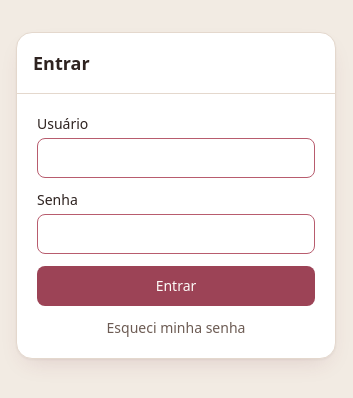
it: LoginPage › shows a translated error message when login rejects
The image size is (353, 398).
Type "ana" into the field labelled "Usuário". click: (176, 158)
box: top-left (37, 138), bottom-right (315, 178)
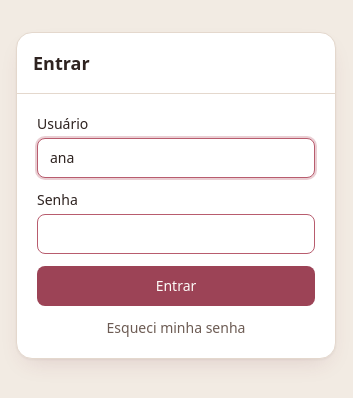
Type "wrong" into the password field labelled "Senha". click: (176, 234)
box: top-left (37, 214), bottom-right (315, 254)
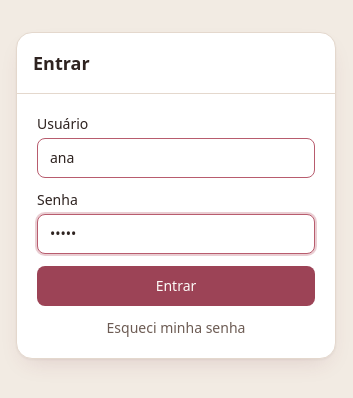
Click the button "Entrar". click: (176, 286)
box: top-left (37, 266), bottom-right (315, 306)
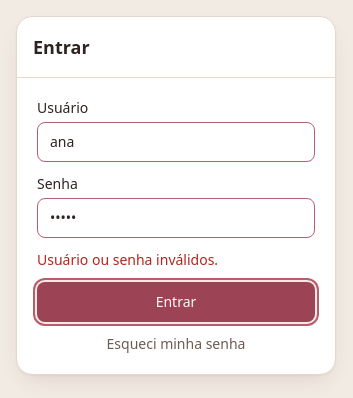
Now the text "Usuário ou senha inválidos." is shown, box top-left (37, 250), bottom-right (218, 268)
